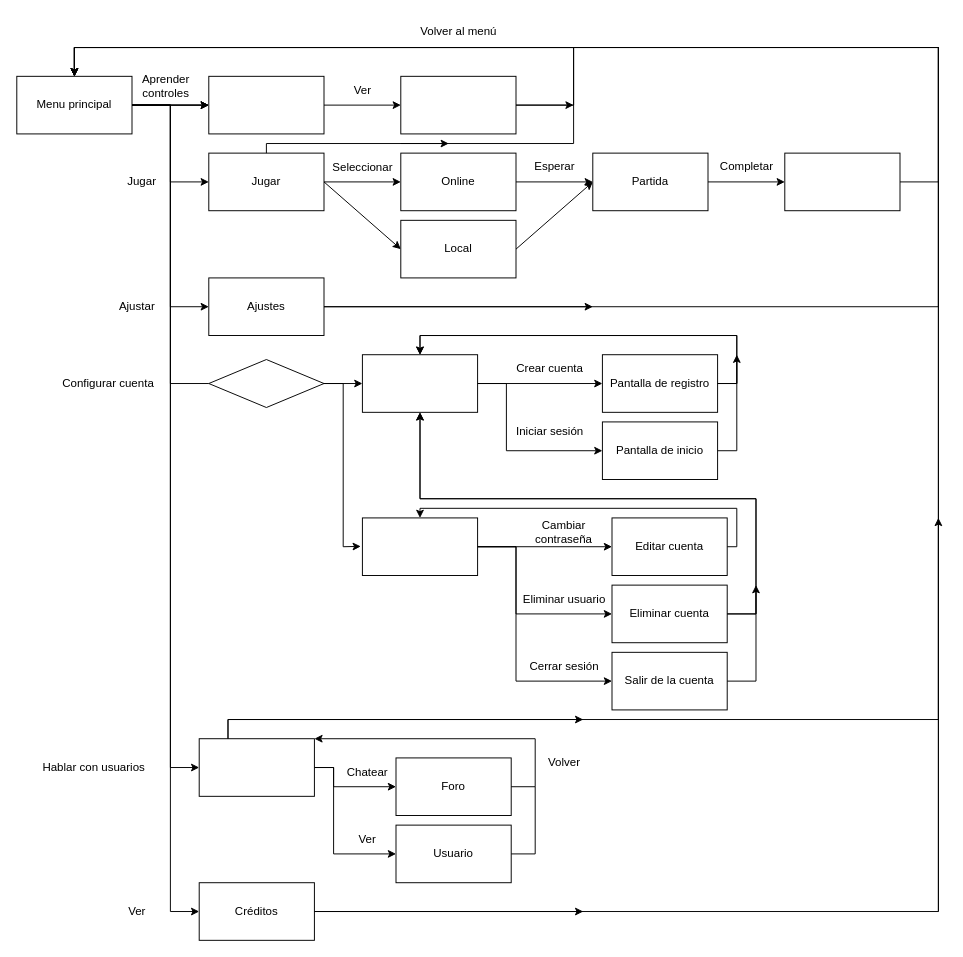
Image size: 963x957. Some labels were removed from this diagram. Each missing label, with the centre of its shape:
Configuracion de cuenta: point 419,546
Controles: point 458,104
Fin del nivel: point 842,181
Pantalla de acceso: point 419,383
Social: point 256,767
Tutorial: point 266,104
¿Inició sesion?: point 266,383
